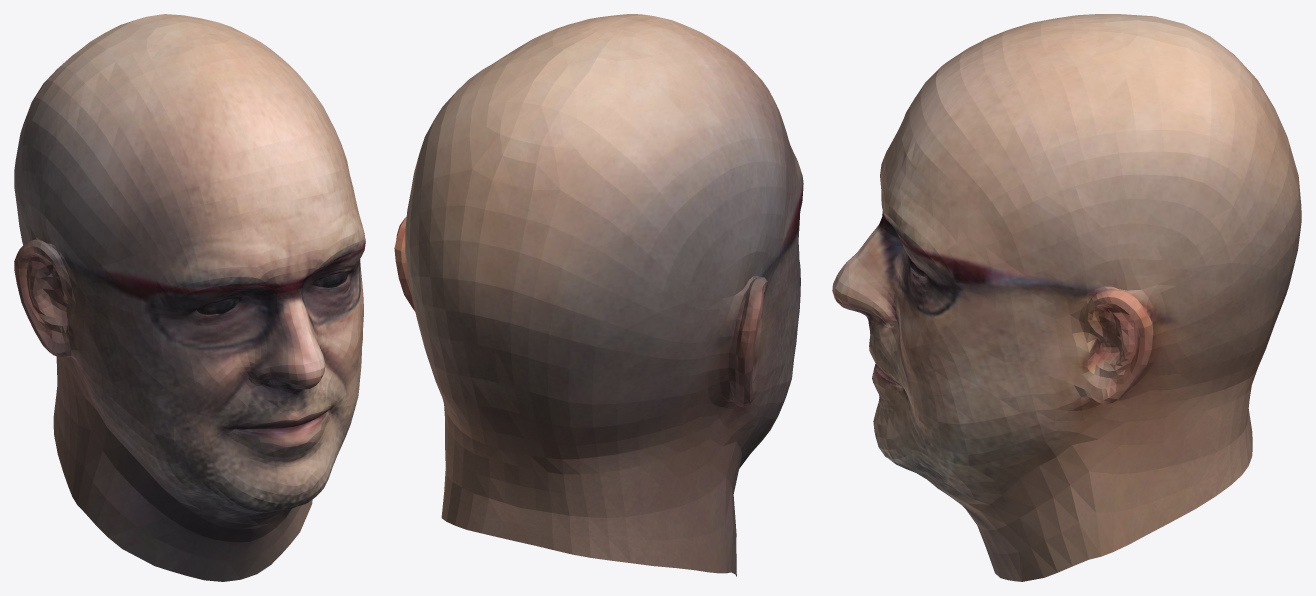
File: eno.glb
The picture shows the model from 3 angles, left to right: view 1: azimuth 30°, elevation 25°; view 2: azimuth 150°, elevation 25°; view 3: azimuth 270°, elevation 25°; orthographic projection. The views are drawn at different scales.
Visible parts, largest first — view 1: Node; view 2: Node; view 3: Node.
Boxes of the visible parts, x1,y1,x2,y2 form: Node: [14, 14, 365, 581]; Node: [394, 14, 803, 576]; Node: [832, 14, 1301, 581].
Bounding box in the file's own units: 0.1685 × 0.2602 × 0.2058.
Materials: 1 (1 with a texture image).
